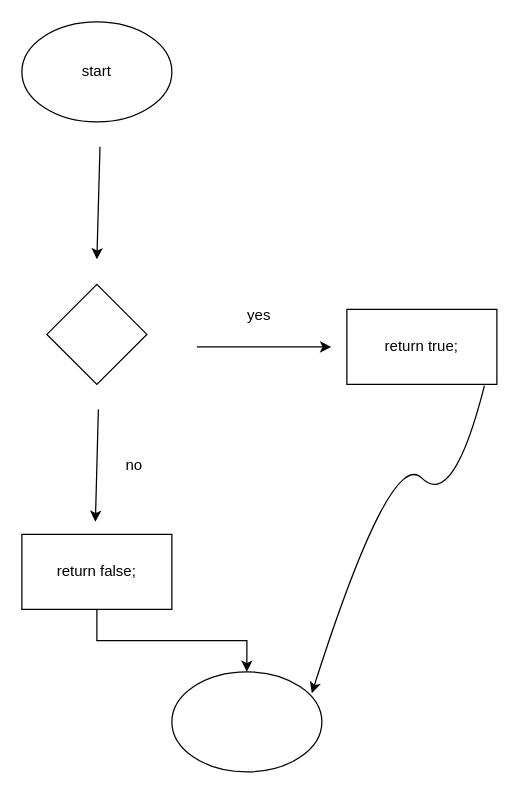
Some shapes in this 519 by 794 pixel diagram are drawn without their labels. The shapes that lost their labels are listed below. From the top down, each one's centre as x and y in pixels, then its label:
At point (96, 333): "gold >=cost?".
At point (246, 721): "end".
